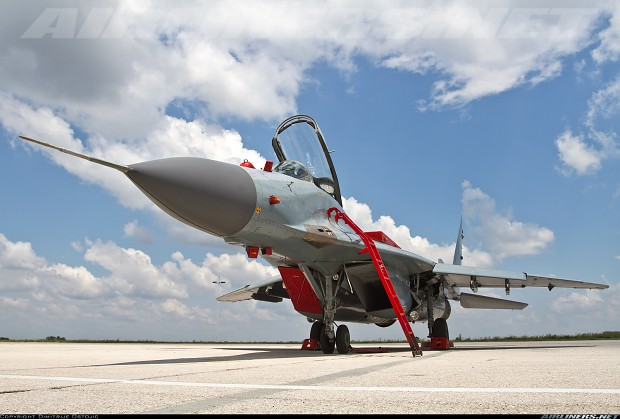Mig-29: (58, 104, 565, 355)
